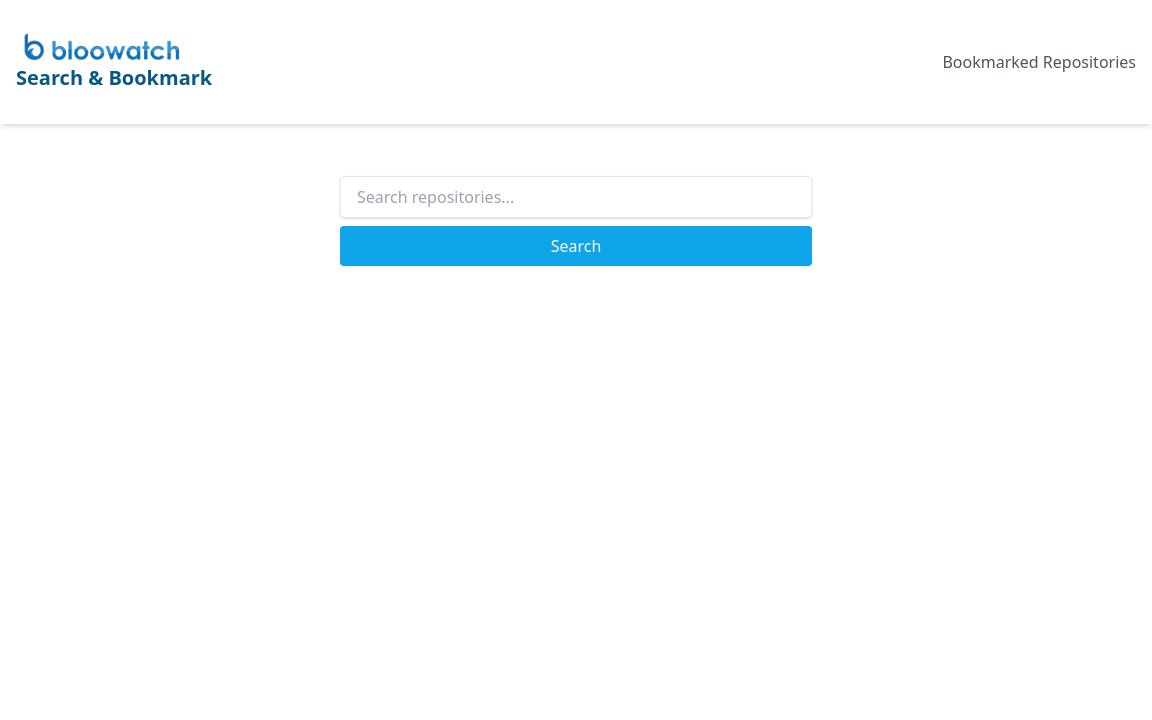
App › performs search and updates searchResults state
Step 1. Type "react" into the field with placeholder "Search repositories..." → (576, 197), box [340, 176, 812, 218]
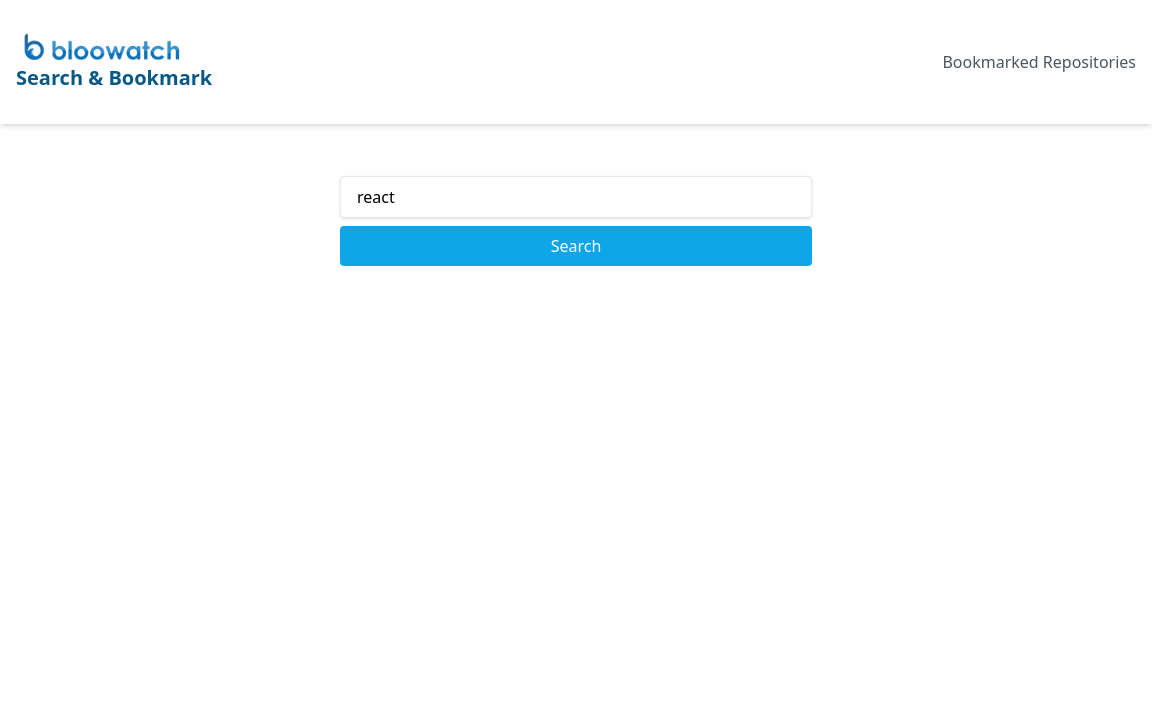
Step 2. Click the button "Search" → click(576, 246), box [340, 226, 812, 266]
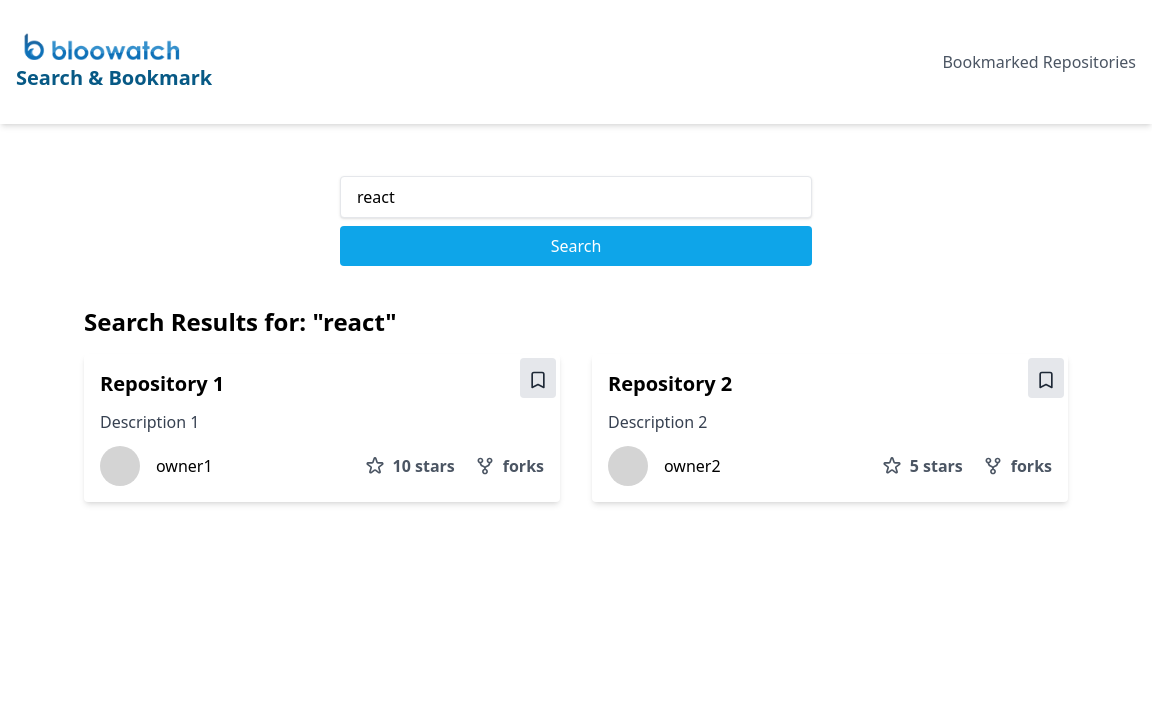
Now the heading "Repository 1" is shown, box [100, 370, 224, 397]
Now the heading "Repository 2" is shown, box [608, 370, 732, 397]
